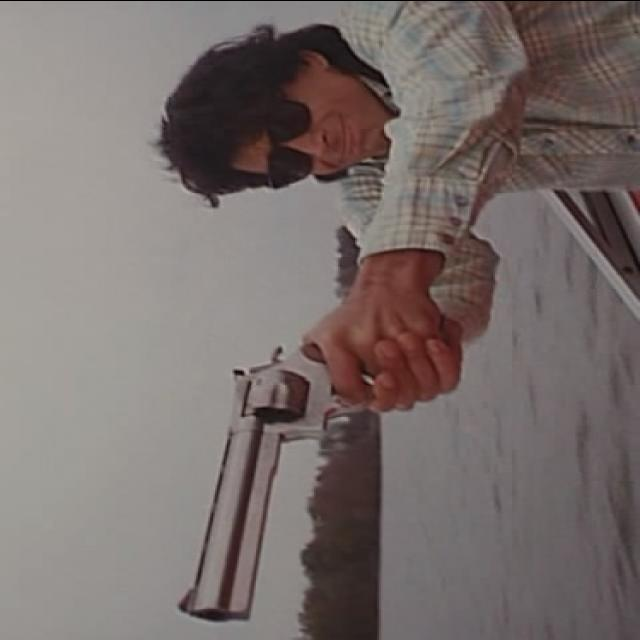weapons: (141, 314, 401, 638)
